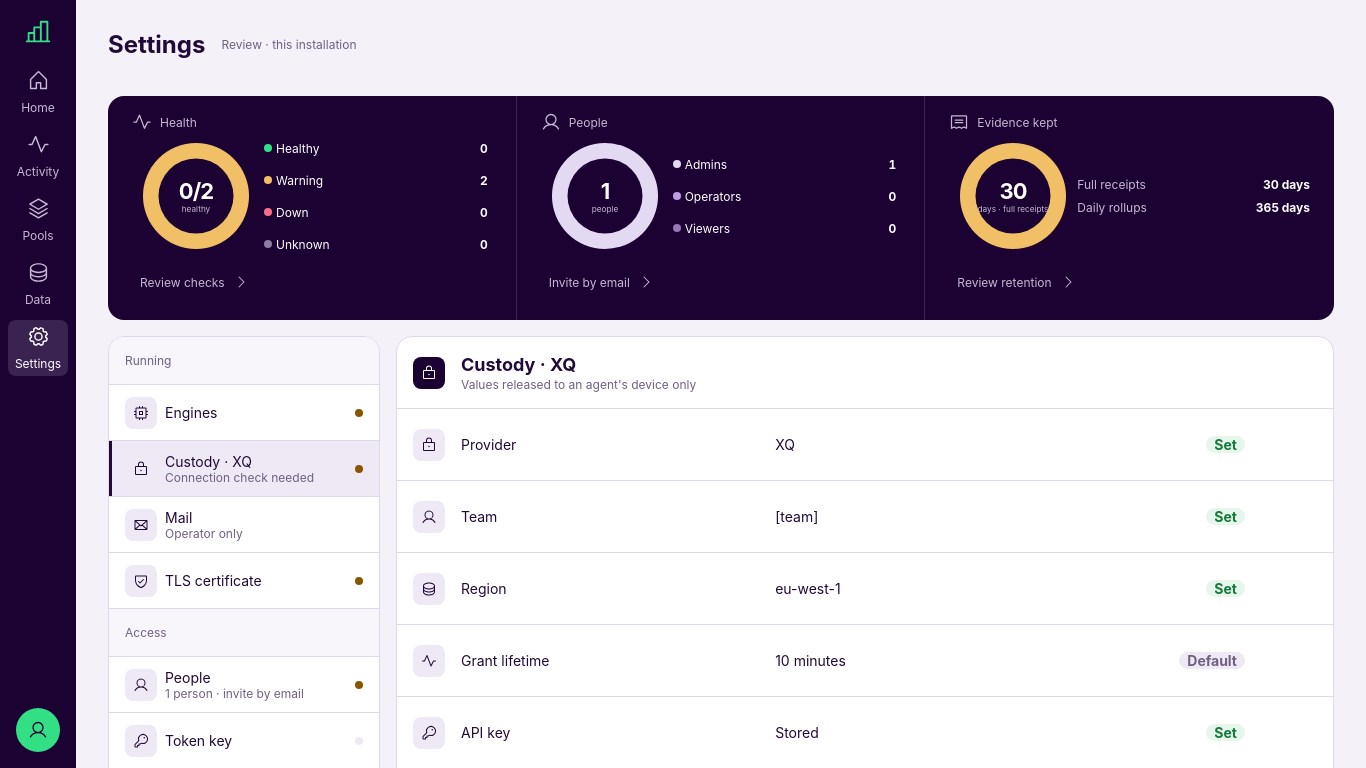
Test case: viewer has no administrative controls and never requests token-key status
Click the button "Token key" at (141, 740), box [109,713,379,767]
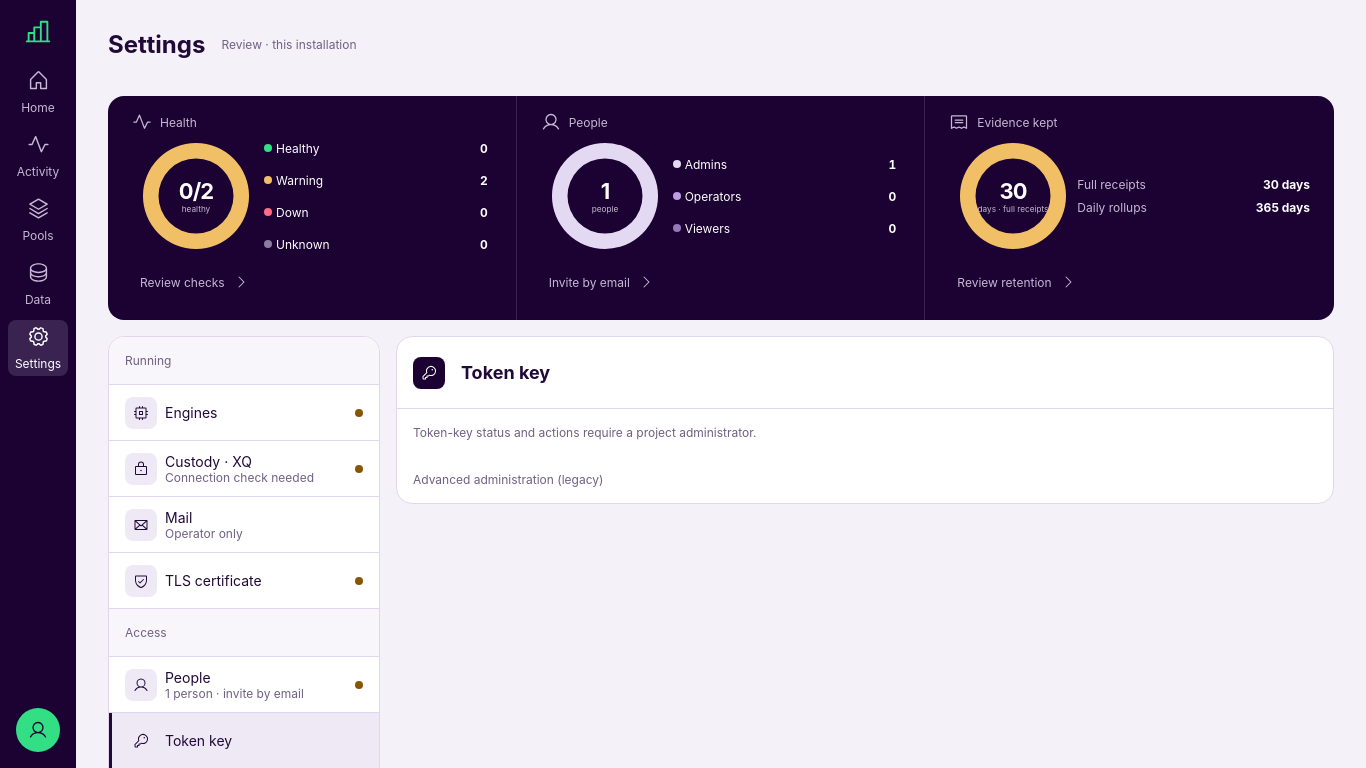
expect the text "require a project administrator" is shown: met, box [413,425,756,440]
